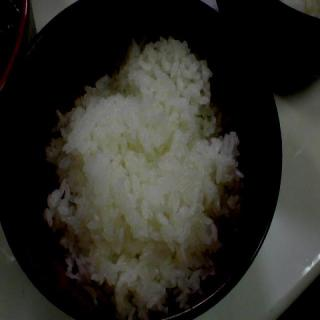Nasi: (42, 35, 245, 320)
